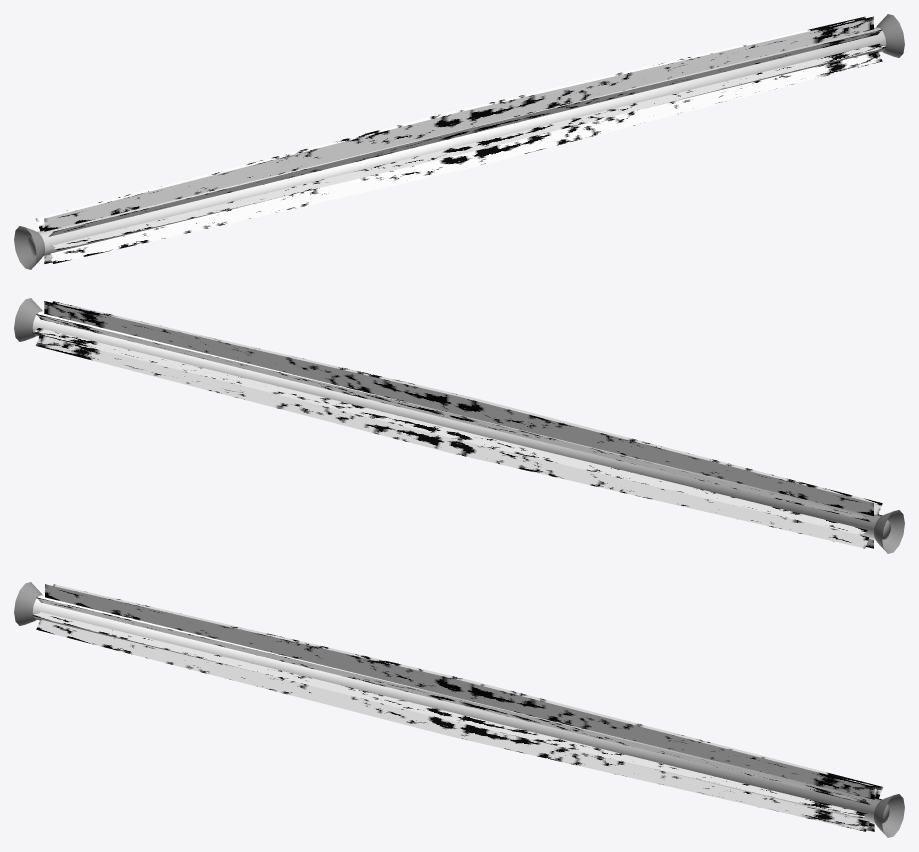
Rendered from Laser.fbx_Collection.fbx.
3 views of the same model, one above another, from view 1: azimuth 30°, elevation 25°; view 2: azimuth 150°, elevation 25°; view 3: azimuth 330°, elevation 25° (orthographic).
Parts seen in each view (by area): view 1: Sparks, Laser; view 2: Sparks, Laser; view 3: Sparks, Laser.
Part boxes in pixels (<box>): Sparks: <box>36,16,885,263</box>; Laser: <box>14,14,904,269</box>; Sparks: <box>32,301,882,548</box>; Laser: <box>14,298,904,553</box>; Sparks: <box>33,584,882,831</box>; Laser: <box>14,582,904,837</box>.
Bounding box in the file's own units: 2794 × 172 × 172.
